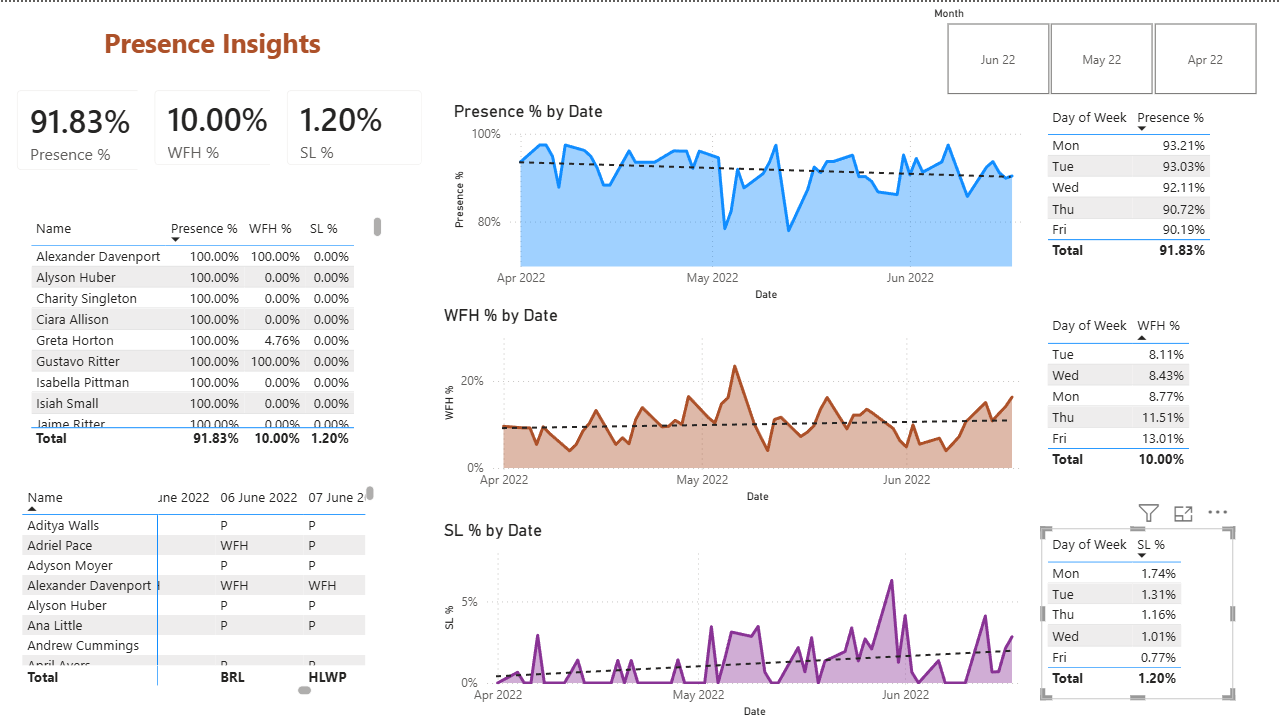

The page's visual inventory and layout, read from the dashboard file:
{"tool":"powerbi","page":{"name":"Presence insights","canvas":[1280,720],"ordinal":0},"visuals":[{"type":"cardVisual","fields":{"Data":["Measure Table.Presence %"]},"box":[0,71,182,114],"z":2000},{"type":"slicer","fields":{"Values":["Final Data.Month"]},"box":[921,0,359,99],"z":3000},{"type":"cardVisual","fields":{"Data":["Measure Table.WFH %"]},"box":[138,71,169,109],"z":4000},{"type":"cardVisual","fields":{"Data":["Measure Table.SL %"]},"box":[270,71,169,109],"z":5000},{"type":"tableEx","fields":{"Values":["Final Data.Name","Measure Table.Presence %","Measure Table.WFH %","Measure Table.SL %"]},"box":[25,210,362,241],"z":5001},{"type":"textbox","box":[99,18,228,63],"z":5002},{"type":"pivotTable","fields":{"Rows":["Final Data.Name"],"Columns":["Final Data.Date"],"Values":["Min(Final Data.Value)"]},"box":[18,479,362,219],"z":5003},{"type":"areaChart","fields":{"Category":["Final Data.Date"],"Y":["Measure Table.Presence %"]},"box":[448.8,98.8,592.5,203.8],"z":5004},{"type":"areaChart","fields":{"Category":["Final Data.Date"],"Y":["Measure Table.WFH %"]},"box":[438.8,302.5,602.5,202.5],"z":5005},{"type":"areaChart","fields":{"Category":["Final Data.Date"],"Y":["Measure Table.SL %"]},"box":[438.8,517.5,602.5,202.5],"z":5006},{"type":"tableEx","fields":{"Values":["Final Data.Day of Week","Measure Table.Presence %"]},"box":[1041.2,98.8,192.5,171.2],"z":5007},{"type":"tableEx","fields":{"Values":["Final Data.Day of Week","Measure Table.WFH %"]},"box":[1041.2,307.5,177.5,171.2],"z":5008},{"type":"tableEx","fields":{"Values":["Final Data.Day of Week","Measure Table.SL %"]},"box":[1041.2,526.2,192.5,171.2],"z":5009}]}

Visuals, with their boxes in screenshot pixels (x1, y1, x2, y2), scaled from the page's 1280x720 canvas onto the 1280x721 screenshot:
cardVisual - Measure Table.Presence %: x1=0, y1=71, x2=182, y2=185
slicer - Final Data.Month: x1=921, y1=0, x2=1279, y2=99
cardVisual - Measure Table.WFH %: x1=138, y1=71, x2=307, y2=180
cardVisual - Measure Table.SL %: x1=270, y1=71, x2=439, y2=180
tableEx - Final Data.Name x Measure Table.Presence %: x1=25, y1=210, x2=387, y2=452
textbox: x1=99, y1=18, x2=327, y2=81
pivotTable - Final Data.Name x Final Data.Date: x1=18, y1=480, x2=380, y2=699
areaChart - Final Data.Date x Measure Table.Presence %: x1=449, y1=99, x2=1041, y2=303
areaChart - Final Data.Date x Measure Table.WFH %: x1=439, y1=303, x2=1041, y2=506
areaChart - Final Data.Date x Measure Table.SL %: x1=439, y1=518, x2=1041, y2=720
tableEx - Final Data.Day of Week x Measure Table.Presence %: x1=1041, y1=99, x2=1234, y2=270
tableEx - Final Data.Day of Week x Measure Table.WFH %: x1=1041, y1=308, x2=1219, y2=479
tableEx - Final Data.Day of Week x Measure Table.SL %: x1=1041, y1=527, x2=1234, y2=698
